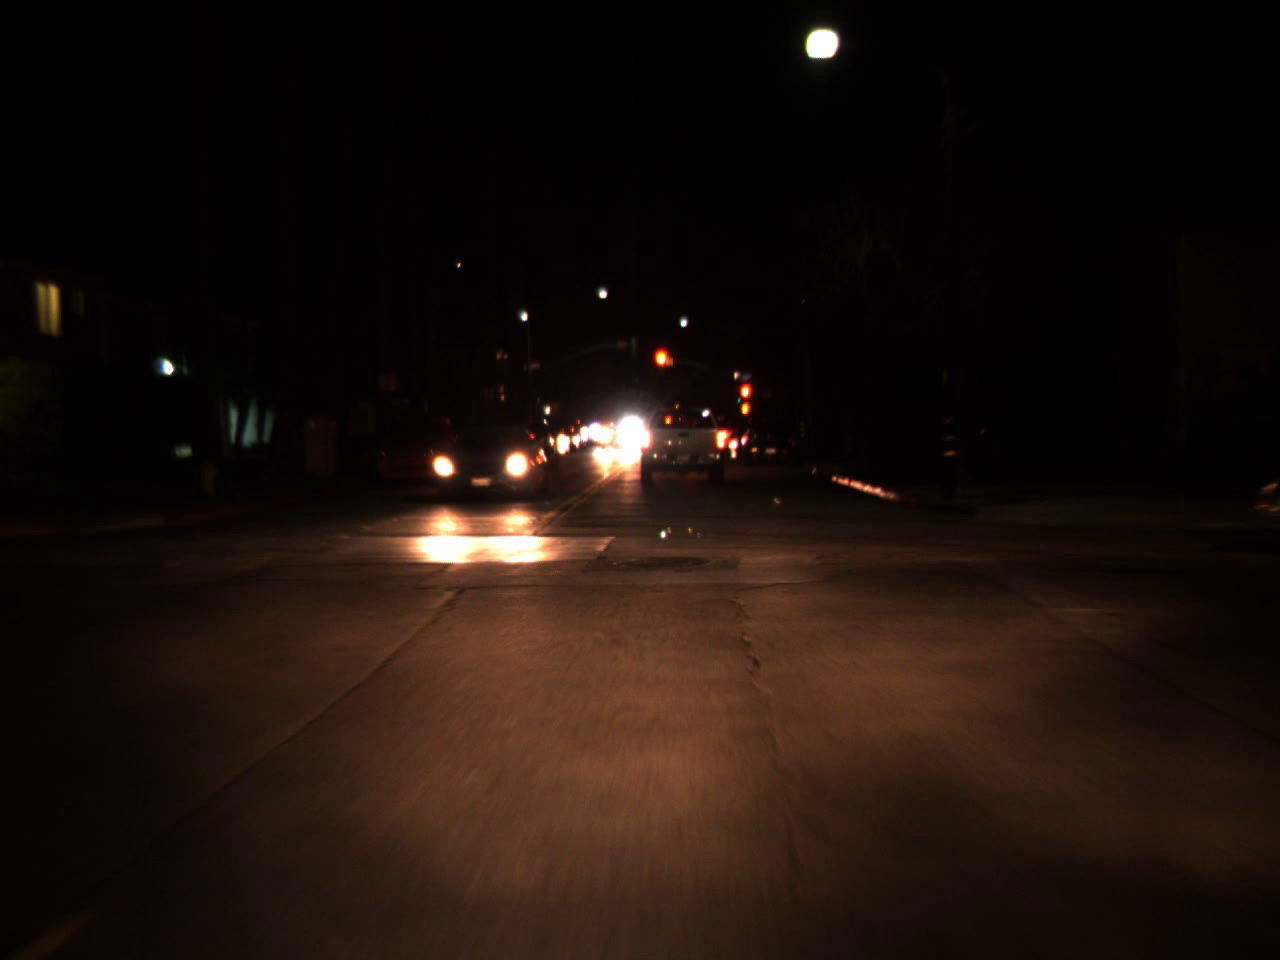stop: (652, 346, 673, 389), (737, 380, 755, 417)
